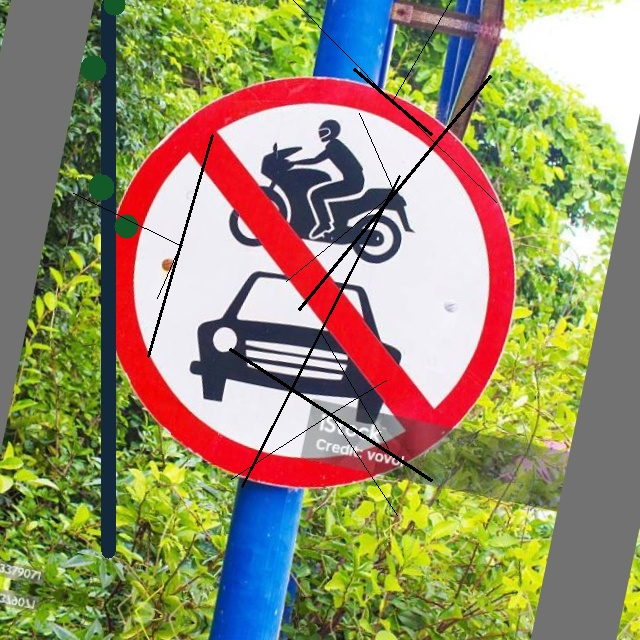All_Motor_Vehicles_Prohibited: (73, 48, 549, 522)
